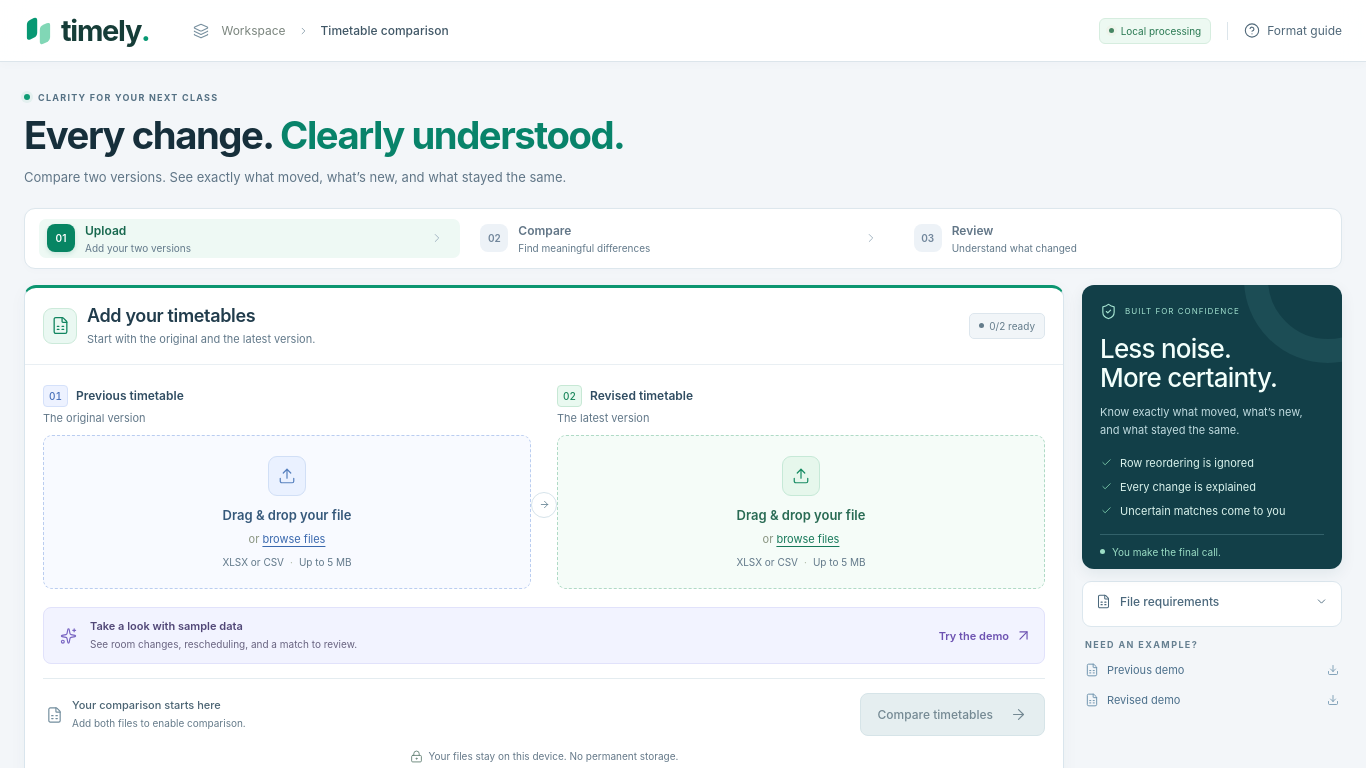
Test: Timely user flows › removes either uploaded file without discarding the other
This screenshot has width=1366, height=768.
What coordinates should you click on to do the following:
click the button "Try the demo"
I would click on:
 (985, 636)
Its box is [939, 620, 1032, 652].
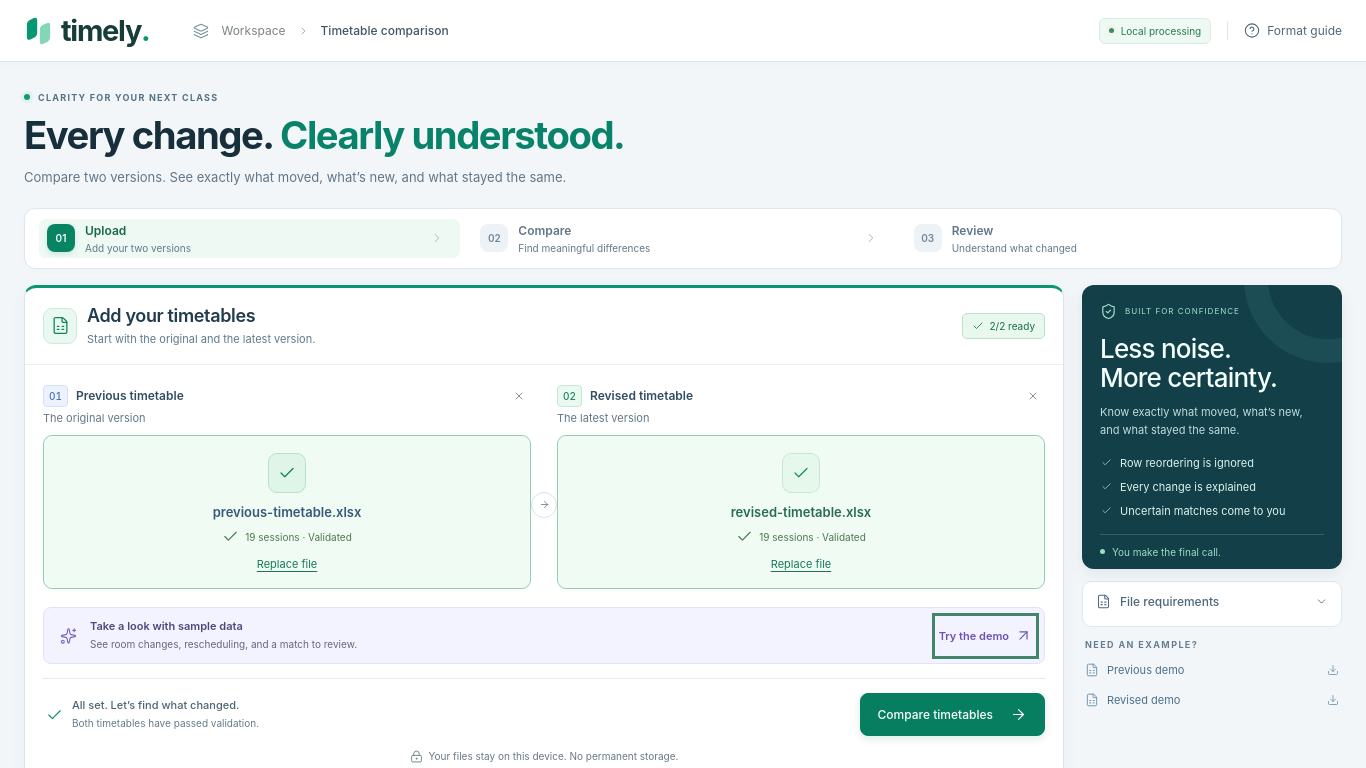
What coordinates should you click on to do the following:
click the button named "Remove previous timetable"
I would click on:
 (519, 396)
Its box is [507, 384, 531, 408].
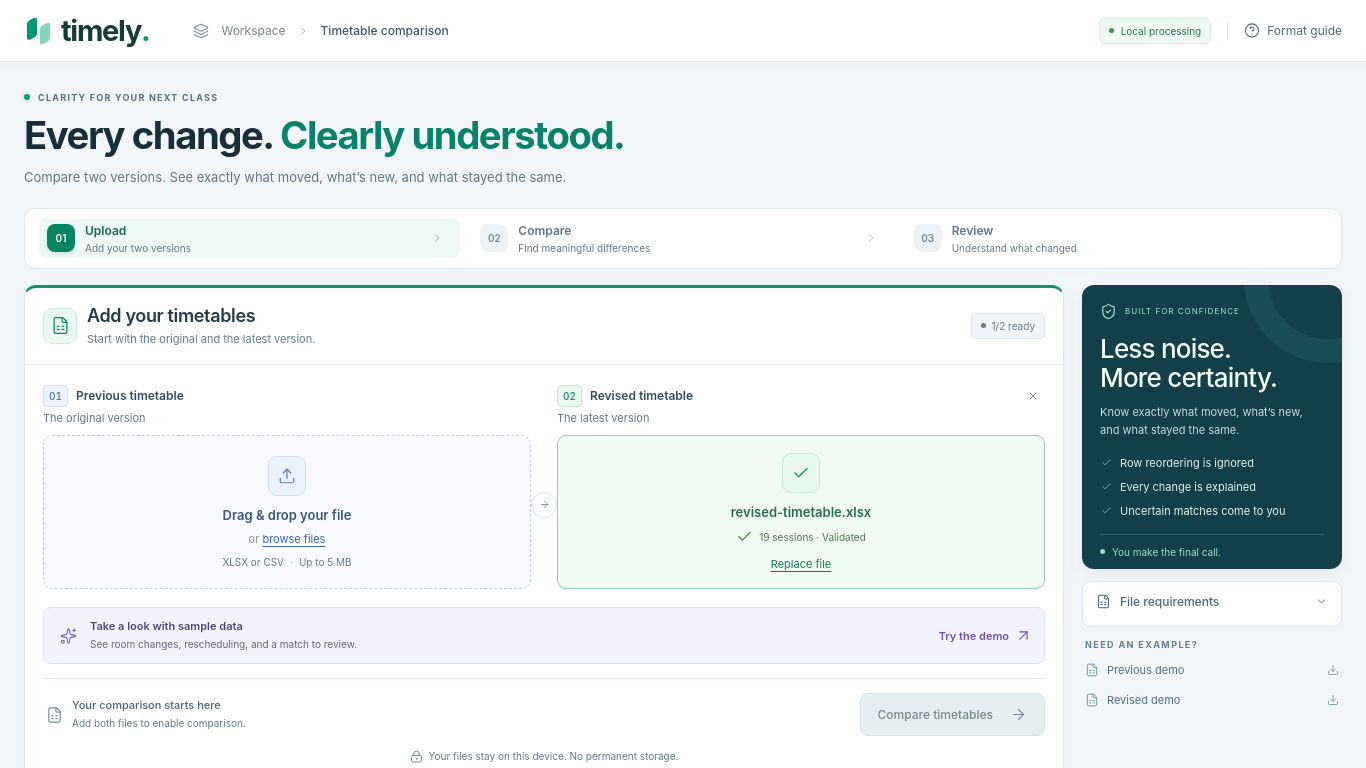
expect the text "revised-timetable.xlsx" is shown: met, box [731, 502, 871, 522]
expect the button "previous-timetable.xlsx" is gone: met
expect the button "Compare timetables" is disabled: met, box [860, 693, 1045, 736]
What coordinates should you click on to do the following:
click the button named "Remove revised timetable"
I would click on:
 (1033, 396)
Its box is [1021, 384, 1045, 408].
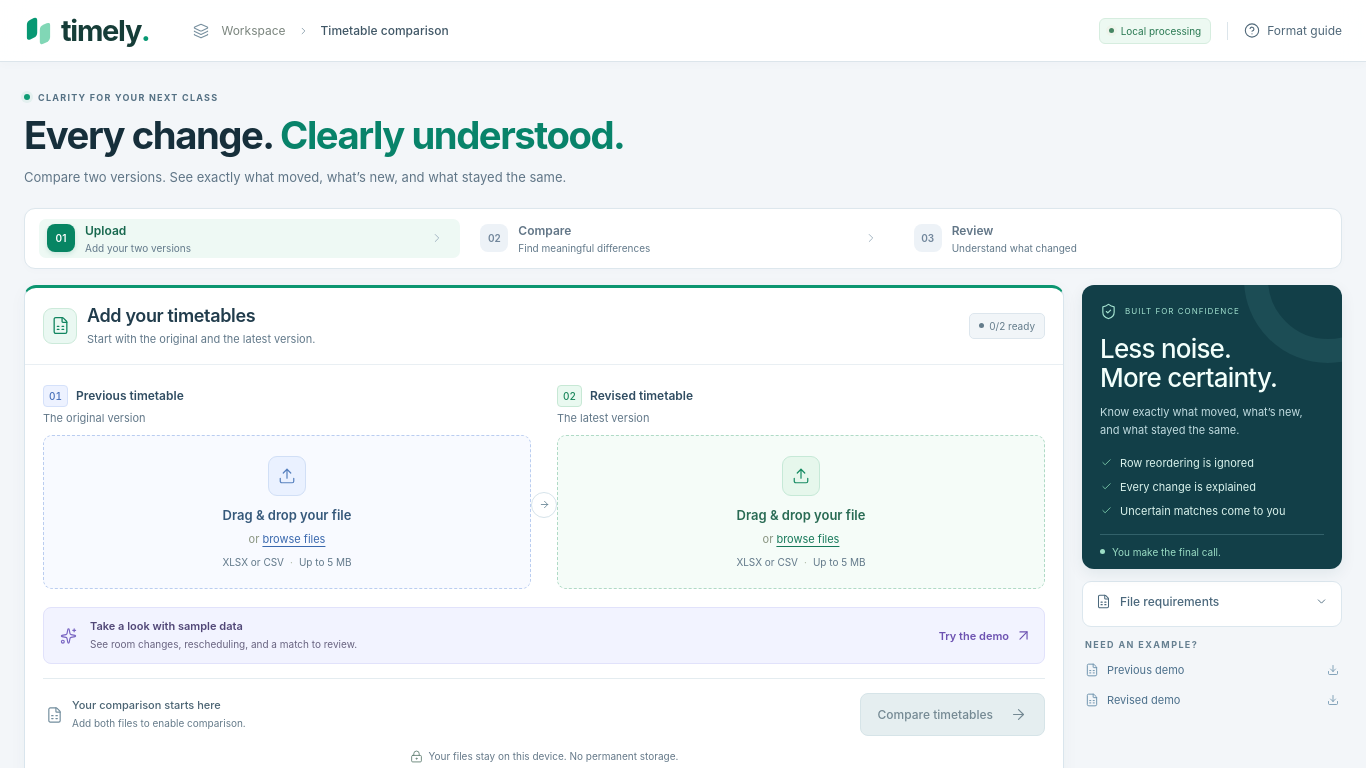
expect the button "revised-timetable.xlsx" is gone: met
